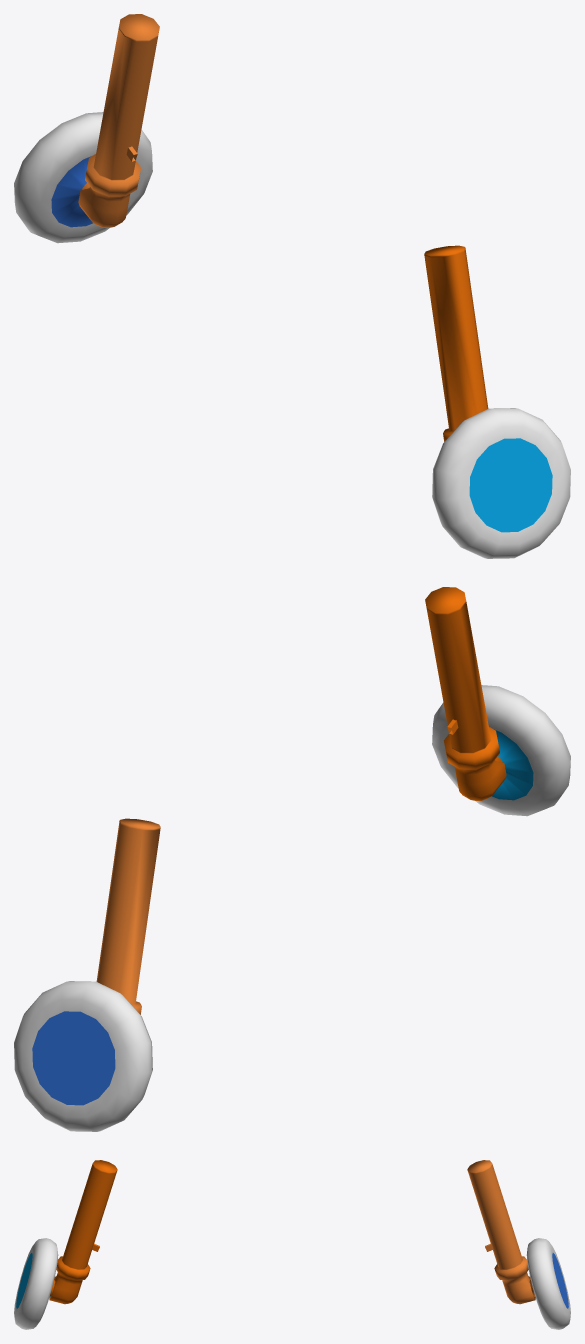
3 views of the same model, one above another, from view 1: azimuth 30°, elevation 25°; view 2: azimuth 150°, elevation 25°; view 3: azimuth 270°, elevation 25° (orthographic). The views are drawn at different scales.
Parts seen in each view (by area): view 1: Cylinder.010, Cylinder.003; view 2: Cylinder.003, Cylinder.010; view 3: Cylinder.003, Cylinder.010.
Part boxes in pixels (box(x1,y1,x2,y2)): Cylinder.010: box(424, 245, 570, 558); Cylinder.003: box(14, 14, 159, 243); Cylinder.003: box(14, 818, 160, 1131); Cylinder.010: box(425, 587, 570, 816); Cylinder.003: box(467, 1160, 570, 1329); Cylinder.010: box(14, 1160, 117, 1329).
Bounding box in the file's own units: 116 × 221 × 687.
